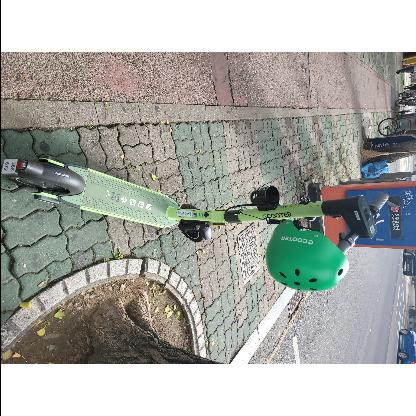bike: (5, 155, 391, 294)
